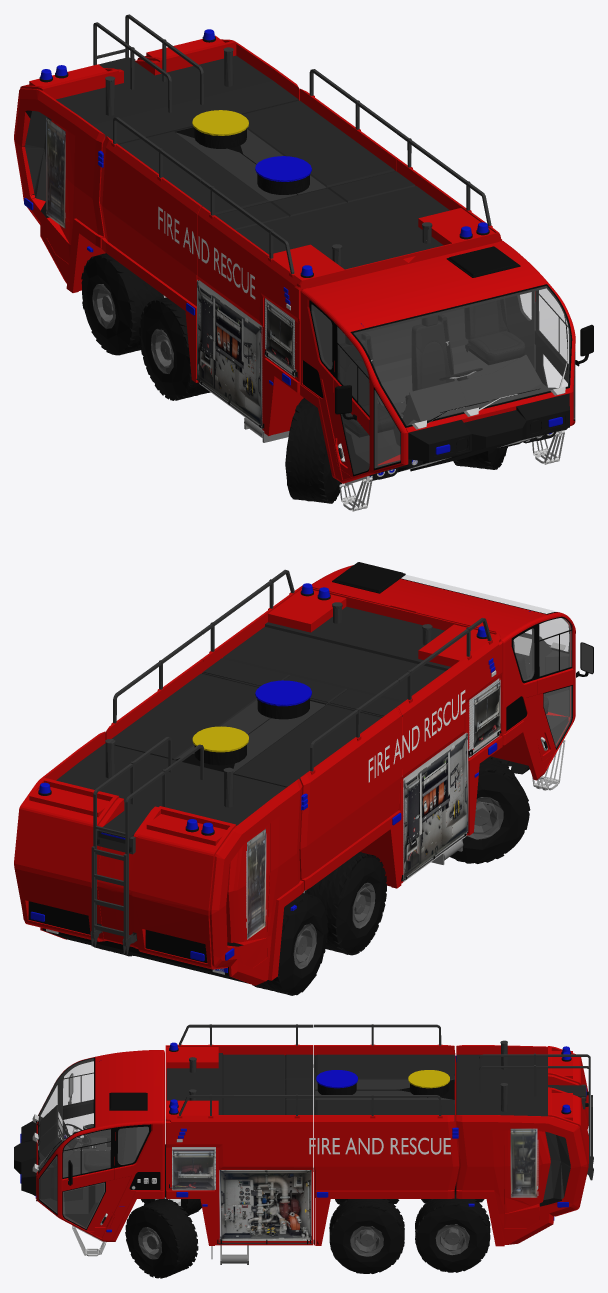
Rendered from Striker.glb.
3 renders of one model, top to bottom at view 1: azimuth 30°, elevation 25°; view 2: azimuth 150°, elevation 25°; view 3: azimuth 270°, elevation 25°, orthographic. The views are drawn at different scales.
Visible parts, largest first — view 1: Object_2302, Object_1784, Object_382, Object_1626, Object_1833, Object_857, Object_2052, Object_1601, RightLocker_1646_19, Object_2517, Object_2087, Object_312 (+27 smaller); view 2: Object_1833, Object_2302, Object_2052, Object_857, Object_1626, Object_382, RightLocker_1646_19, Object_1297, Object_2744, Object_1152, Object_497, Object_312 (+18 smaller); view 3: Object_857, Object_1833, Object_1626, Object_2302, Object_382, Object_2052, LeftLocker_1647_17, Object_912, Object_687, Object_1027, Object_2087, Object_1784 (+26 smaller).
Part boxes in pixels (bbox=[...]): Object_2302: bbox=[56, 55, 395, 215]; Object_1784: bbox=[354, 286, 569, 425]; Object_382: bbox=[300, 241, 575, 483]; Object_1626: bbox=[197, 159, 502, 436]; Object_1833: bbox=[14, 35, 299, 292]; Object_857: bbox=[100, 88, 398, 382]; Object_2052: bbox=[216, 171, 449, 269]; Object_1601: bbox=[311, 286, 574, 474]; RightLocker_1646_19: bbox=[197, 280, 261, 425]; Object_2517: bbox=[369, 393, 570, 476]; Object_2087: bbox=[312, 289, 574, 473]; Object_312: bbox=[312, 305, 399, 474]; Object_1833: bbox=[14, 731, 303, 985]; Object_2302: bbox=[56, 672, 383, 843]; Object_2052: bbox=[203, 606, 450, 716]; Object_857: bbox=[105, 659, 401, 890]; Object_1626: bbox=[201, 585, 502, 883]; Object_382: bbox=[312, 565, 575, 780]; RightLocker_1646_19: bbox=[403, 733, 468, 878]; Object_1297: bbox=[91, 632, 399, 946]; Object_2744: bbox=[304, 852, 387, 955]; Object_1152: bbox=[450, 756, 530, 863]; Object_497: bbox=[28, 753, 249, 983]; Object_312: bbox=[514, 618, 571, 747]; Object_857: bbox=[314, 1044, 459, 1245]; Object_1833: bbox=[456, 1045, 588, 1246]; Object_1626: bbox=[165, 1044, 313, 1245]; Object_2302: bbox=[314, 1054, 586, 1120]; Object_382: bbox=[36, 1050, 164, 1241]; Object_2052: bbox=[166, 1053, 313, 1114]; LeftLocker_1647_17: bbox=[219, 1170, 311, 1240]; Object_912: bbox=[329, 1199, 404, 1273]; Object_687: bbox=[415, 1192, 490, 1272]; Object_1027: bbox=[125, 1198, 198, 1278]; Object_2087: bbox=[41, 1062, 148, 1226]; Object_1784: bbox=[39, 1059, 92, 1170].
Size of the model in its own units: 24.46 by 24.15 by 65.14.
87 materials, 7 textured.
